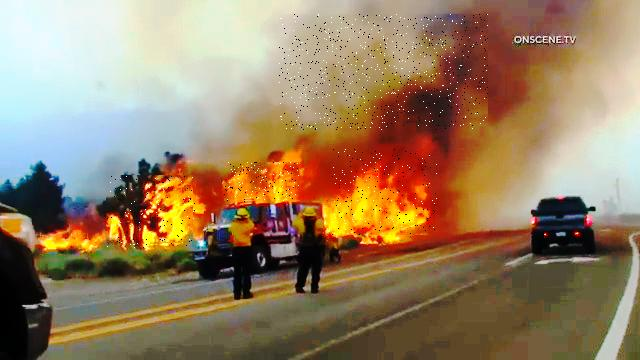fire: (333, 149, 438, 235), (107, 176, 196, 249), (224, 162, 299, 202)
smoke: (279, 15, 488, 131)
